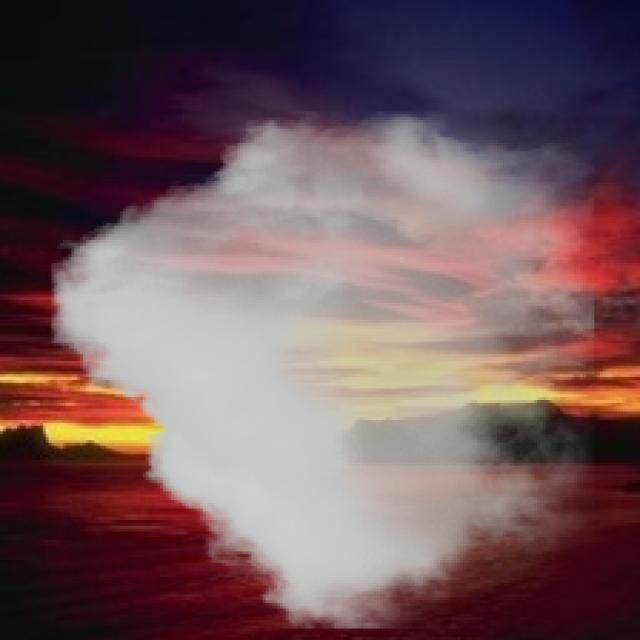Smoke: (51, 111, 594, 628)
